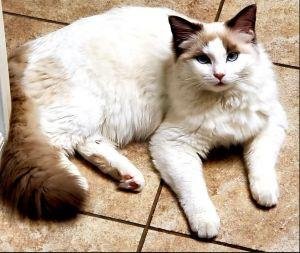ragdoll: (164, 1, 260, 101)
